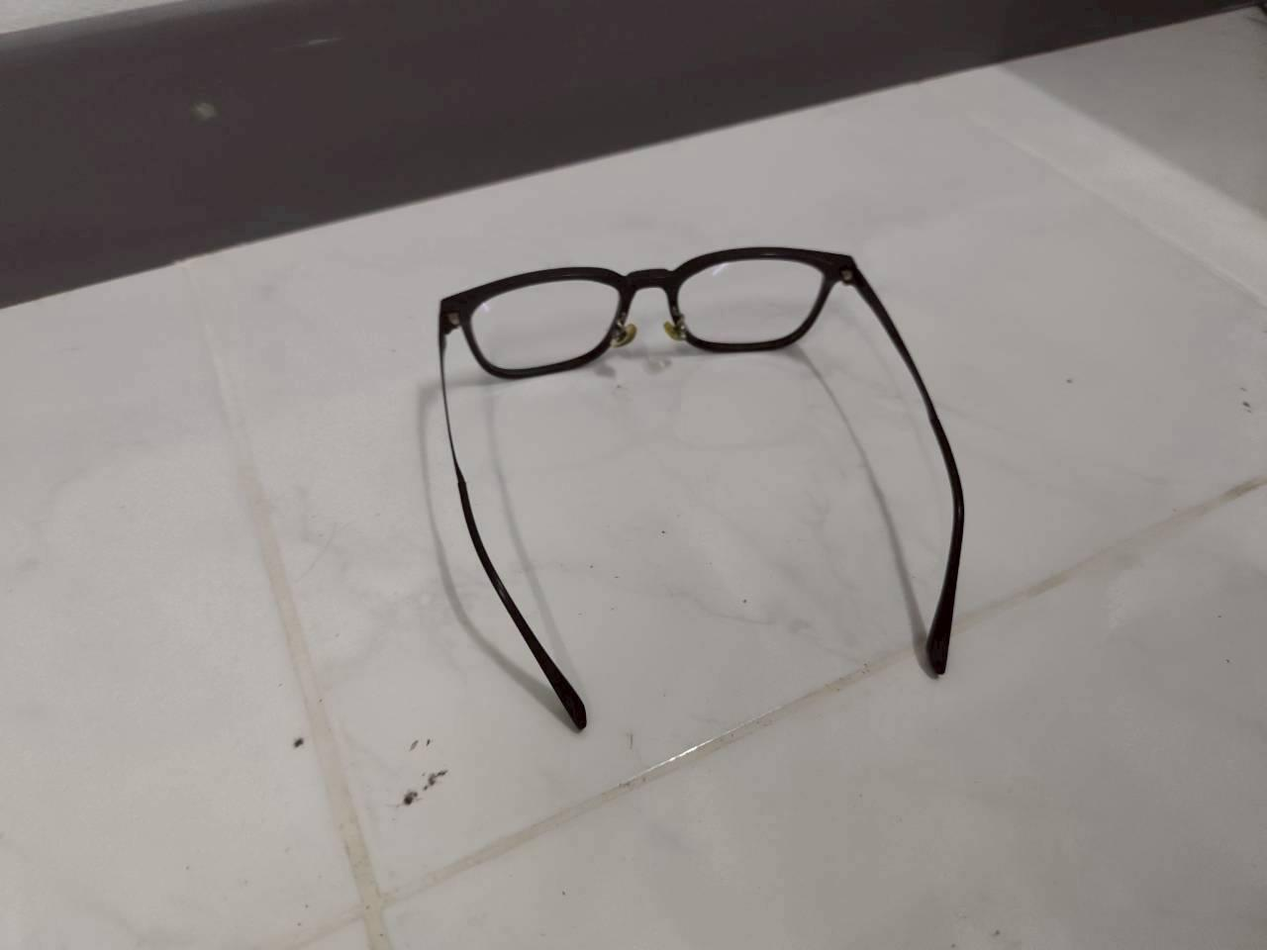glasses: (426, 249, 974, 737)
